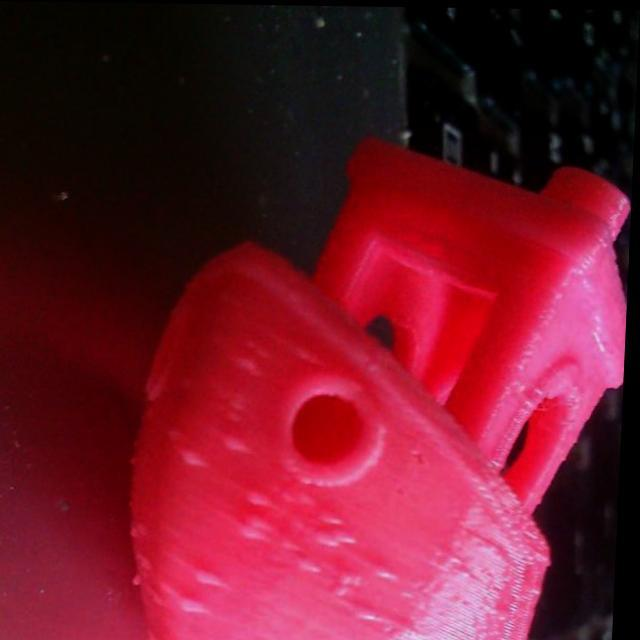zits: (243, 474, 280, 512), (241, 512, 278, 550), (334, 562, 363, 600), (373, 552, 404, 586), (323, 524, 358, 554), (200, 560, 232, 589), (224, 429, 254, 457), (178, 441, 208, 469), (320, 502, 350, 529), (358, 600, 384, 630), (181, 590, 206, 620), (298, 554, 323, 580), (238, 350, 265, 372)
